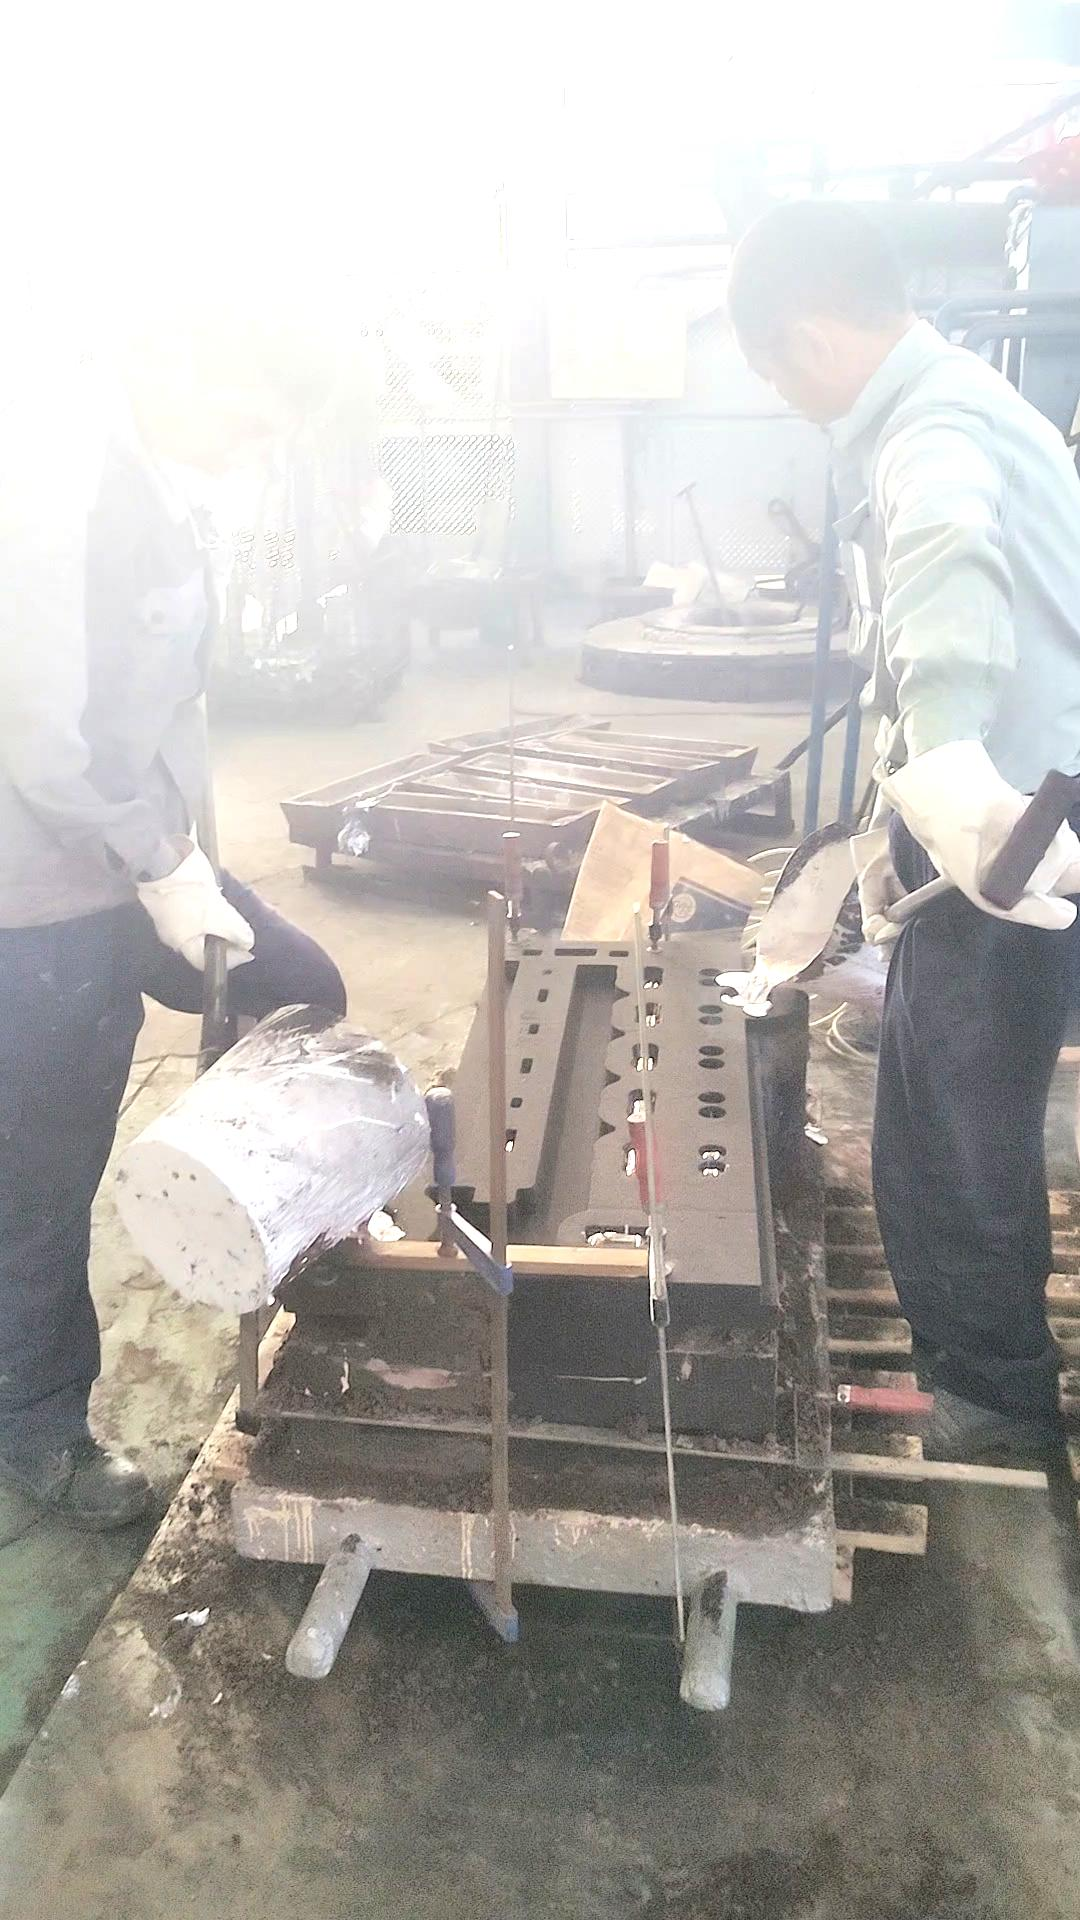pouring hole: (324, 1199, 397, 1241), (723, 982, 777, 1007)
